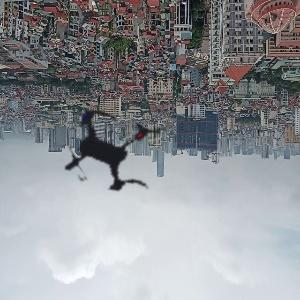drone: (5, 53, 211, 259)
